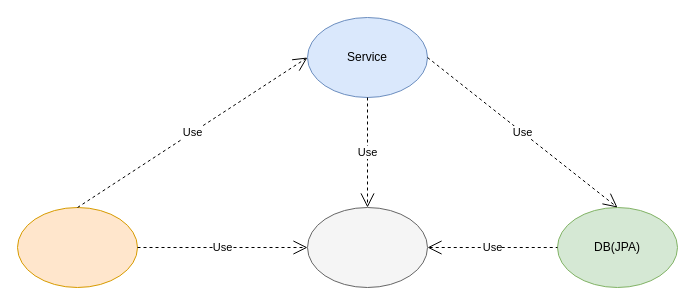
Image size: 695x305. Some labels were removed from this diagram. Each missing label, with the centre of its shape:
"Controller" goes at pixel 77 247.
"Entity" goes at pixel 367 247.
